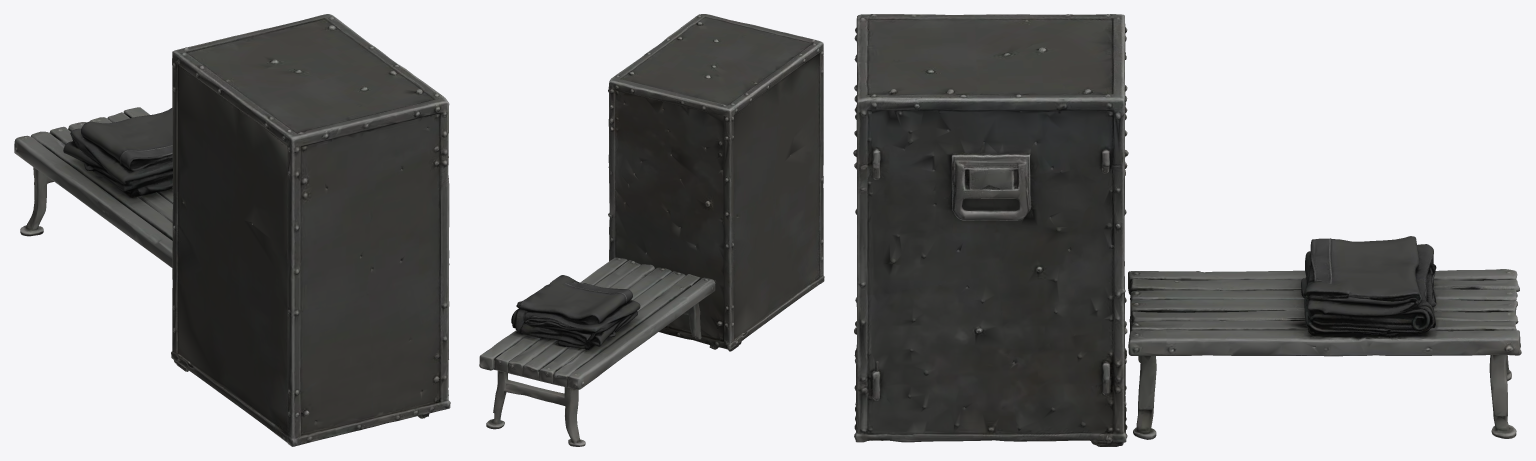
File: bunks-2.glb
The picture shows the model from 3 angles, left to right: view 1: azimuth 30°, elevation 25°; view 2: azimuth 150°, elevation 25°; view 3: azimuth 270°, elevation 25°; orthographic projection. The views are drawn at different scales.
Visible parts, largest first — view 1: tripo_node_75cc1d06-c1c8-4e8a-be84-a69f9cdbf31a; view 2: tripo_node_75cc1d06-c1c8-4e8a-be84-a69f9cdbf31a; view 3: tripo_node_75cc1d06-c1c8-4e8a-be84-a69f9cdbf31a.
Boxes of the visible parts, x1,y1,x2,y2 form: tripo_node_75cc1d06-c1c8-4e8a-be84-a69f9cdbf31a: (14,14,450,446); tripo_node_75cc1d06-c1c8-4e8a-be84-a69f9cdbf31a: (479,14,824,446); tripo_node_75cc1d06-c1c8-4e8a-be84-a69f9cdbf31a: (853,14,1521,446).
Size of the model in its own units: 0.3181 by 0.5853 by 0.9998.
1 material, 1 textured.
